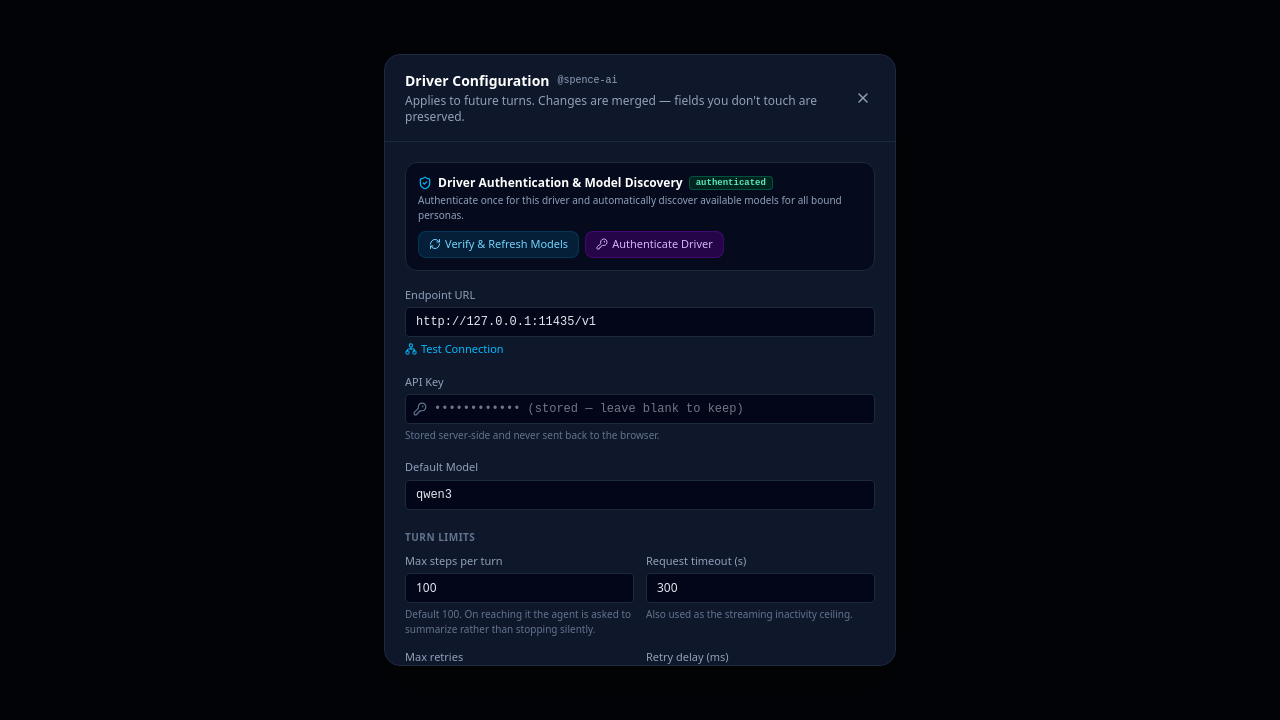
it: DriverConfigModal › rejects a zero max-steps value
Step 1. Replace the text in the number field labelled "Max steps per turn" with "0" → (520, 588), box [405,573,634,603]
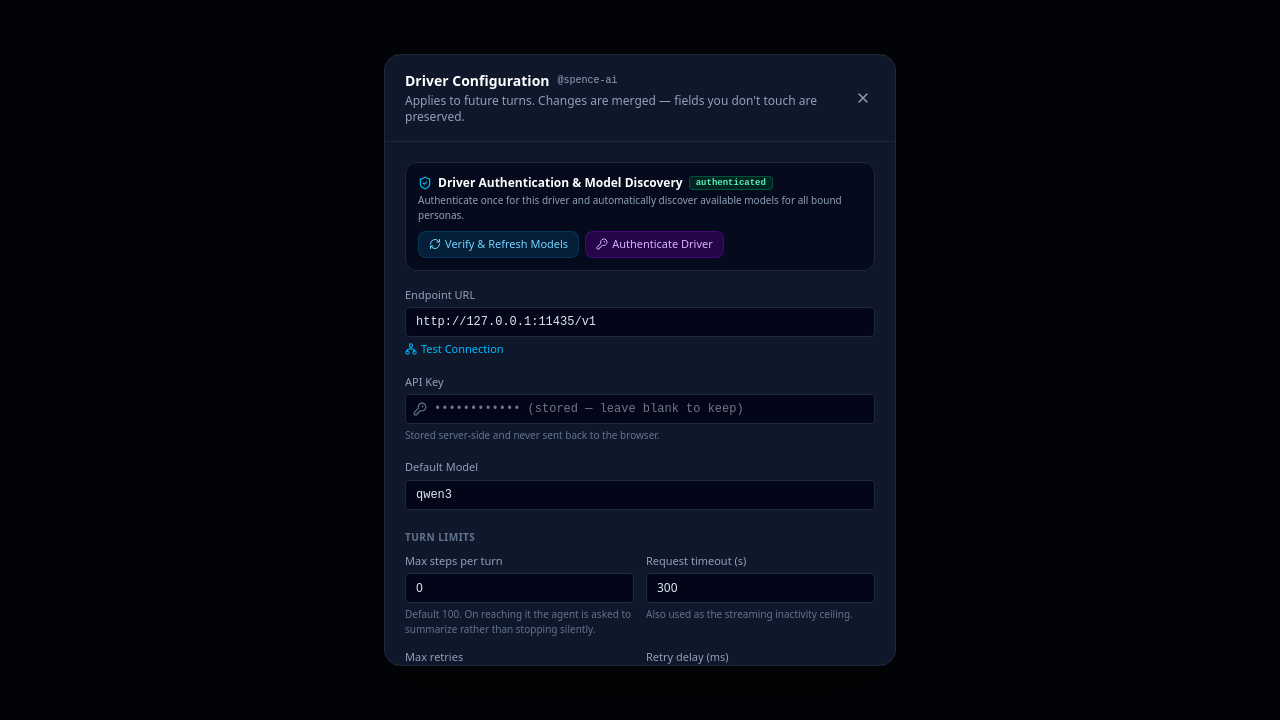
Step 2. Submit the form named "Save", box [385,142,895,665]
(page scrolled)
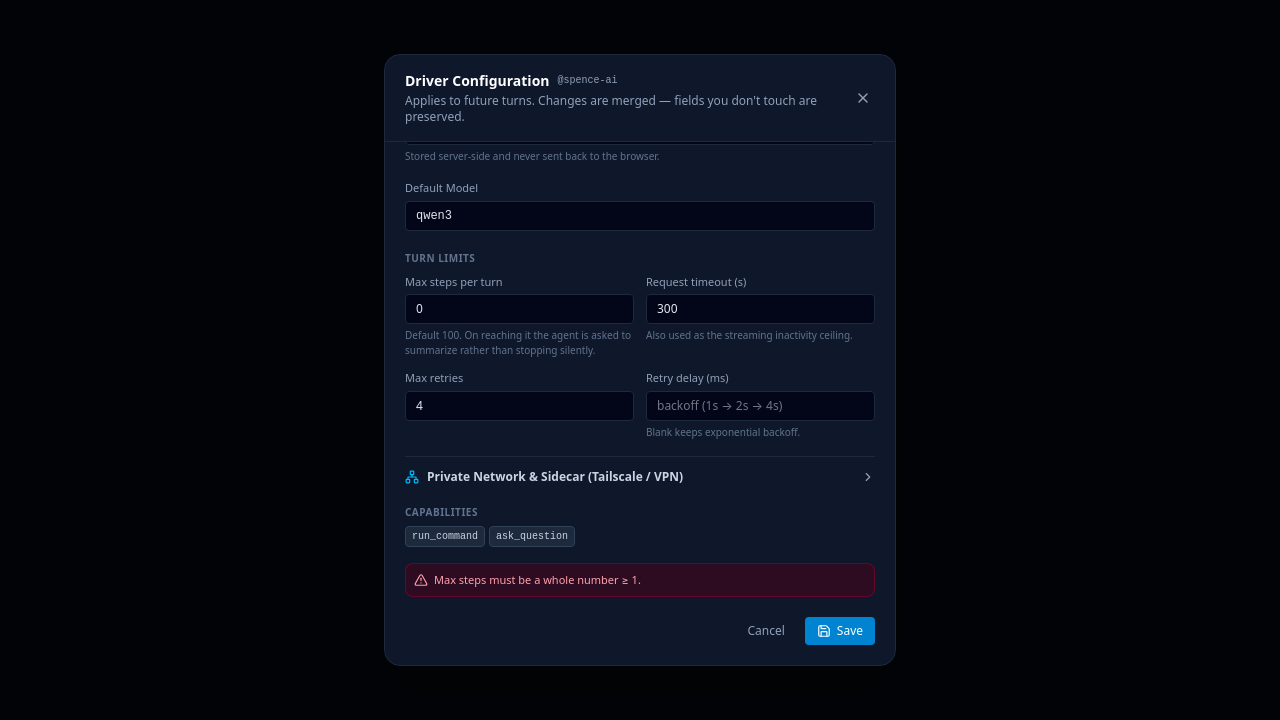
Expected: the text "Max steps must be a whole number ≥ 1." is shown, [434,572,641,588]
